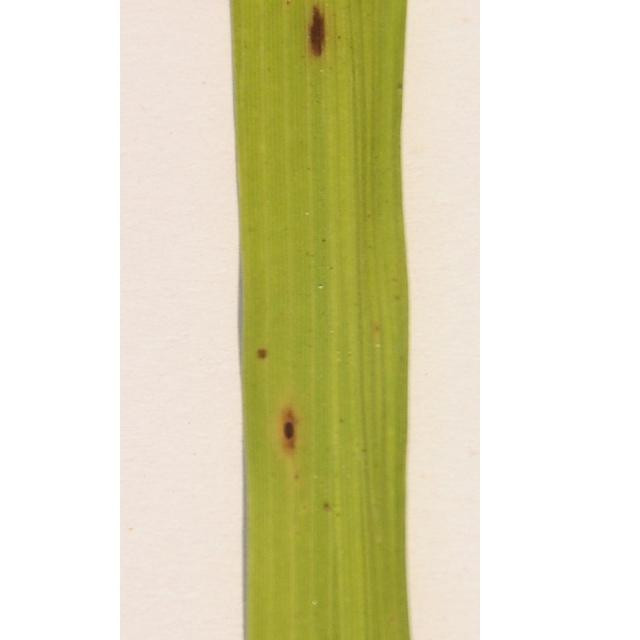Brown spot: (296, 0, 349, 55), (268, 397, 310, 452), (248, 342, 272, 366)
